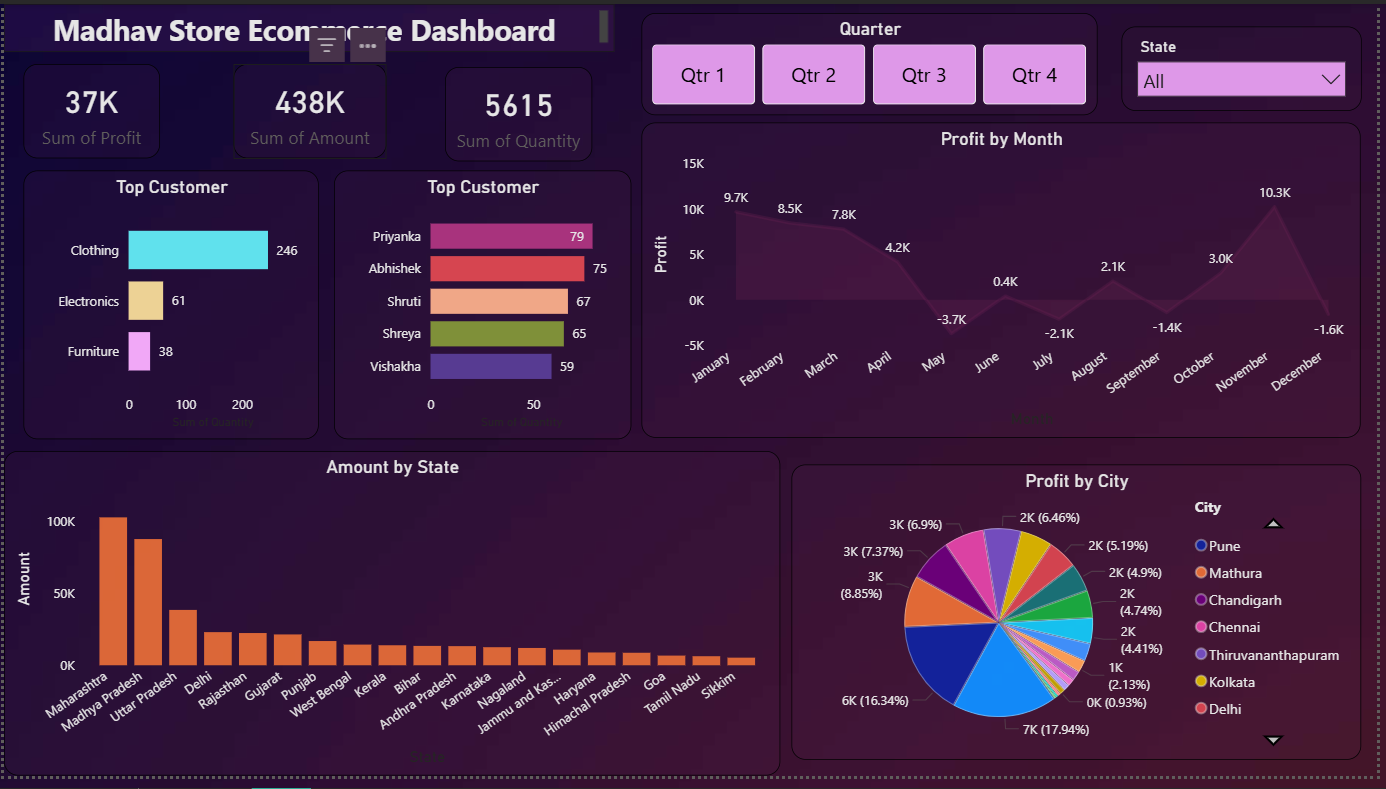

The page's visual inventory and layout, read from the dashboard file:
{"tool":"powerbi","page":{"name":"Page 1","canvas":[1280,720],"ordinal":0},"visuals":[{"type":"textbox","box":[0,0,569.4,44.8],"z":0},{"type":"pieChart","title":"Profit by City","fields":{"Category":["Orders.City"],"Y":["Details.Profit"]},"box":[734.4,430,531.5,275.6],"z":1000},{"type":"areaChart","title":"Profit by Month","fields":{"Category":["Orders.Order Date.Variation.Date Hierarchy.Month"],"Y":["Details.Profit"]},"box":[595.1,110.5,670.8,293.8],"z":2000},{"type":"lineStackedColumnComboChart","title":"Amount by State","fields":{"Category":["Orders.State"],"Y":["Details.Amount"]},"box":[0,416.4,723.8,302.8],"z":2001},{"type":"clusteredBarChart","title":"Top Customer","fields":{"Y":["Details.Quantity"],"Category":["Orders.CustomerName"]},"box":[307.8,155.3,277,250.4],"z":2002},{"type":"card","fields":{"Values":["Details.Profit"]},"box":[18.2,56,127.3,88.1],"z":2003},{"type":"card","fields":{"Values":["Details.Amount"]},"box":[214,56,142.7,88.1],"z":2004},{"type":"card","fields":{"Values":["Details.Quantity"]},"box":[411.3,58.8,137.1,88.1],"z":2005},{"type":"clusteredBarChart","title":"Top Customer","fields":{"Category":["Details.Category"],"Y":["Details.Quantity"]},"box":[18.2,155.3,275.6,250.4],"z":2006},{"type":"advancedSlicerVisual","fields":{"Values":["Orders.Order Date.Variation.Date Hierarchy.Quarter"]},"box":[595.1,9.1,425.5,95.4],"z":2007},{"type":"slicer","fields":{"Values":["Orders.State"]},"box":[1041.8,21.2,224.1,78.7],"z":2008}]}

Visuals, with their boxes in screenshot pixels (x1, y1, x2, y2), scaled from the page's 1280x720 canvas onto the 1386x789 screenshot:
textbox: l=0, t=0, r=617, b=49
"Profit by City" pieChart: l=795, t=471, r=1371, b=773
"Profit by Month" areaChart: l=644, t=121, r=1371, b=443
"Amount by State" lineStackedColumnComboChart: l=0, t=456, r=784, b=788
"Top Customer" clusteredBarChart: l=333, t=170, r=633, b=445
card - Details.Profit: l=20, t=61, r=158, b=158
card - Details.Amount: l=232, t=61, r=386, b=158
card - Details.Quantity: l=445, t=64, r=594, b=161
"Top Customer" clusteredBarChart: l=20, t=170, r=318, b=445
advancedSlicerVisual - Orders.Order Date.Variation.Date Hierarchy.Quarter: l=644, t=10, r=1105, b=115
slicer - Orders.State: l=1128, t=23, r=1371, b=109
